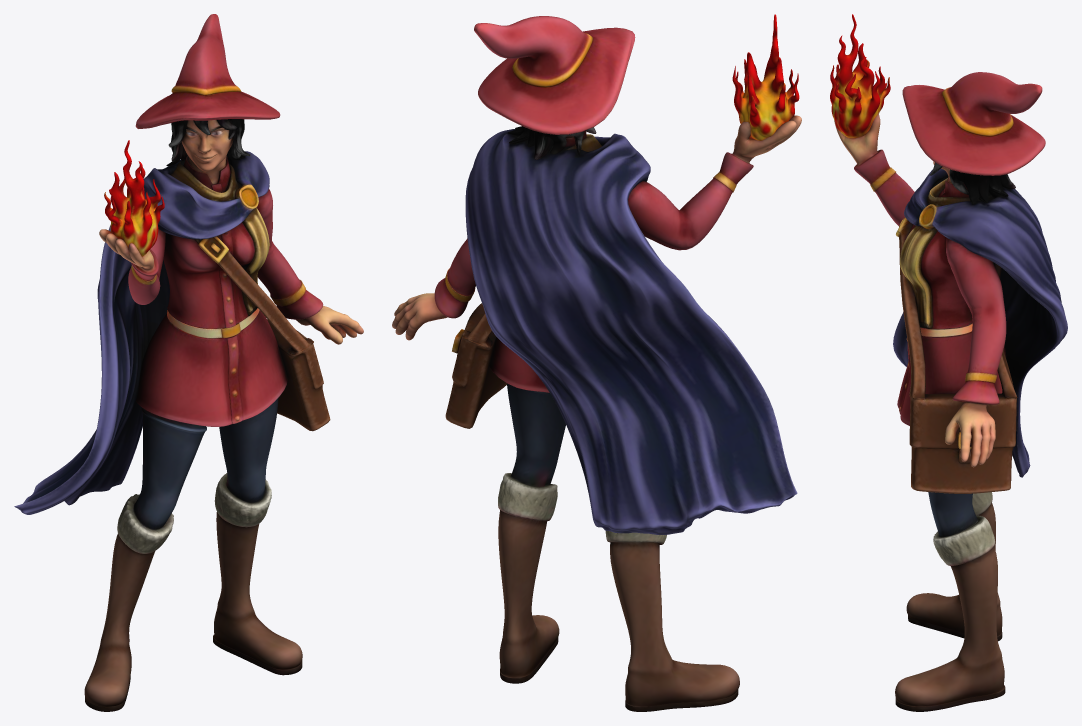
File: Mage female.glb
3 renders of one model, left to right at view 1: azimuth 30°, elevation 25°; view 2: azimuth 150°, elevation 25°; view 3: azimuth 270°, elevation 25°, orthographic. The views are drawn at different scales.
Parts seen in each view (by area): view 1: Body.001_Body.001, Cape_Base.001, Wizard_Hat.001, Satchel.001, Sphere.001, Cube.001; view 2: Cape_Base.001, Body.001_Body.001, Wizard_Hat.001, Satchel.001, Sphere.001; view 3: Body.001_Body.001, Cape_Base.001, Wizard_Hat.001, Satchel.001, Sphere.001, Cube.001.
Boxes of the visible parts, x1,y1,x2,y2 form: Body.001_Body.001: (84,119,363,711); Cape_Base.001: (14,151,269,514); Wizard_Hat.001: (135,14,280,128); Satchel.001: (194,236,330,431); Sphere.001: (104,140,164,256); Cube.001: (170,161,269,315); Cape_Base.001: (465,129,797,534); Body.001_Body.001: (392,115,801,711); Wizard_Hat.001: (474,16,635,134); Satchel.001: (445,303,506,428); Sphere.001: (732,14,799,140); Body.001_Body.001: (834,112,1015,711); Cape_Base.001: (893,168,1067,477); Wizard_Hat.001: (902,72,1045,175); Satchel.001: (896,177,1017,493); Sphere.001: (830,14,890,138); Cube.001: (900,178,993,328).
Bounding box in the file's own units: 3.82 × 6.23 × 2.19.
1 material, 1 textured.
